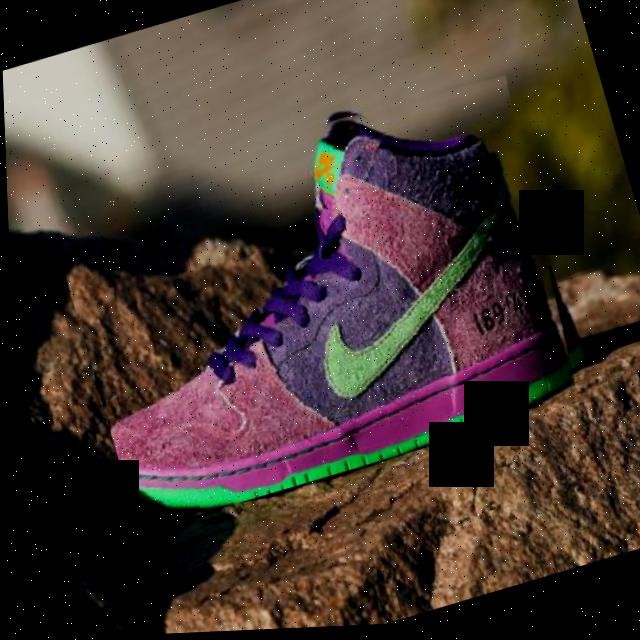shoe: (37, 63, 598, 536)
